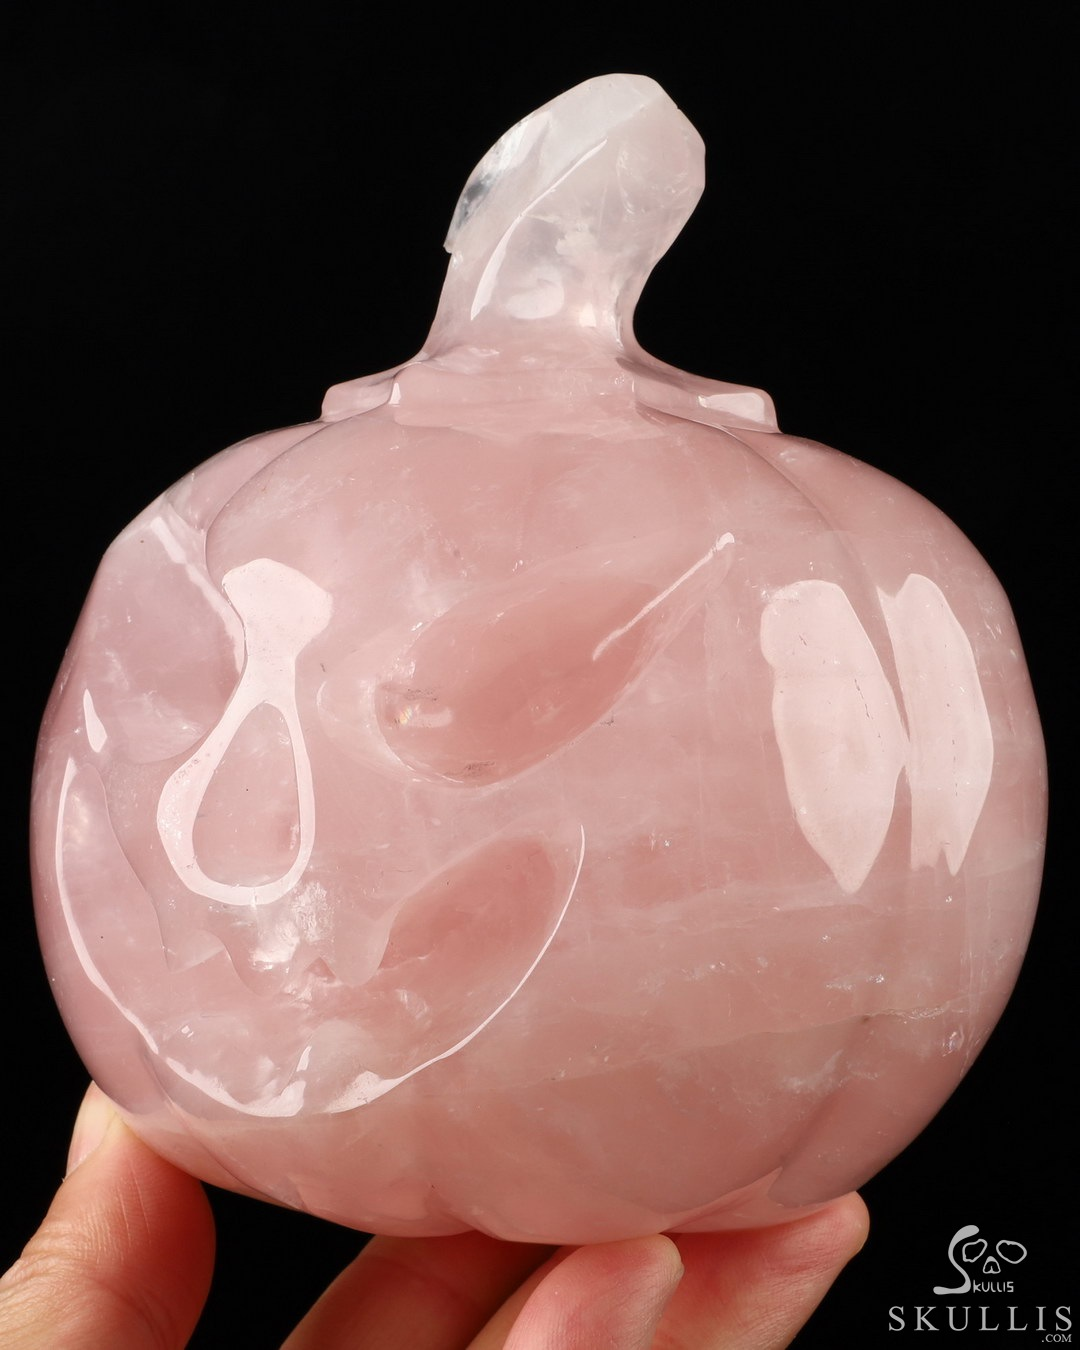Rose_Quartz: (25, 71, 1054, 1224)
